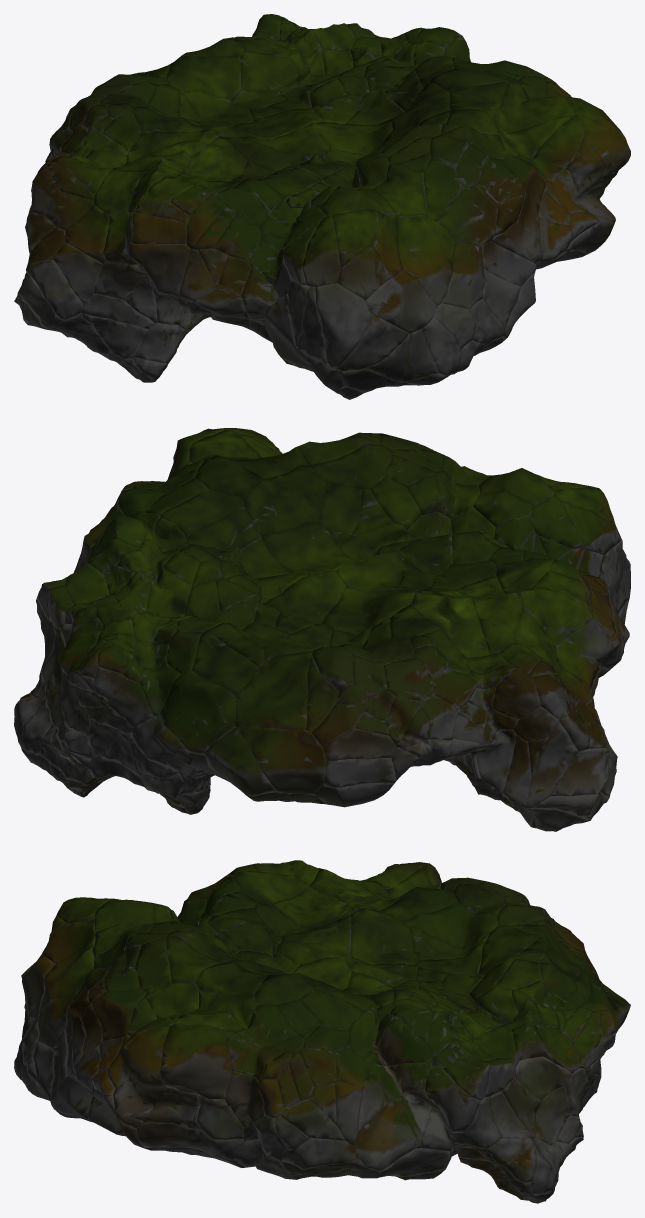
The model's file is flat_island1.fbx.
The picture shows the model from 3 angles, top to bottom: view 1: azimuth 30°, elevation 25°; view 2: azimuth 150°, elevation 25°; view 3: azimuth 270°, elevation 25°; orthographic projection. The views are drawn at different scales.
Visible parts, largest first — view 1: rock_cell.058, rock_cell.282, rock_cell.347, rock_cell.408, rock_cell.324, rock_cell.105, rock_cell.313, rock_cell.054, rock_cell.384, rock_cell.144, rock_cell.166, rock_cell.310 (+117 smaller); view 2: rock_cell.311, rock_cell.035, rock_cell.179, rock_cell.252, rock_cell.304, rock_cell.044, rock_cell.408, rock_cell.345, rock_cell.148, rock_cell.087, rock_cell.056, rock_cell.006 (+112 smaller); view 3: rock_cell.216, rock_cell.345, rock_cell.280, rock_cell.401, rock_cell.018, rock_cell.408, rock_cell.319, rock_cell.313, rock_cell.380, rock_cell.360, rock_cell.210, rock_cell.329 (+110 smaller).
Part boxes in pixels (<box>): rock_cell.058: <box>398,215,456,306</box>; rock_cell.282: <box>315,283,371,369</box>; rock_cell.347: <box>366,269,436,333</box>; rock_cell.408: <box>226,125,329,171</box>; rock_cell.324: <box>166,55,240,99</box>; rock_cell.105: <box>437,185,498,245</box>; rock_cell.313: <box>496,81,577,132</box>; rock_cell.054: <box>128,244,191,297</box>; rock_cell.384: <box>441,241,485,308</box>; rock_cell.144: <box>240,49,300,91</box>; rock_cell.166: <box>515,115,583,181</box>; rock_cell.310: <box>568,135,615,223</box>; rock_cell.311: <box>235,650,313,729</box>; rock_cell.035: <box>159,670,236,754</box>; rock_cell.179: <box>237,727,326,794</box>; rock_cell.252: <box>243,465,325,535</box>; rock_cell.304: <box>261,522,357,574</box>; rock_cell.044: <box>411,592,489,658</box>; rock_cell.408: <box>336,551,436,592</box>; rock_cell.345: <box>321,586,419,634</box>; rock_cell.148: <box>266,570,346,623</box>; rock_cell.087: <box>205,726,276,796</box>; rock_cell.056: <box>517,587,594,645</box>; rock_cell.006: <box>308,444,392,489</box>; rock_cell.216: <box>160,1024,232,1098</box>; rock_cell.345: <box>350,908,419,965</box>; rock_cell.280: <box>353,1100,416,1171</box>; rock_cell.401: <box>402,902,498,948</box>; rock_cell.018: <box>120,1026,169,1105</box>; rock_cell.408: <box>276,915,351,964</box>; rock_cell.319: <box>137,1122,243,1160</box>; rock_cell.313: <box>174,989,258,1031</box>; rock_cell.380: <box>425,1064,480,1132</box>; rock_cell.360: <box>237,1005,304,1052</box>; rock_cell.210: <box>271,887,354,927</box>; rock_cell.329: <box>363,1016,432,1066</box>.
Bounding box in the file's own units: 3810 × 1638 × 3830.
Materials: 1 (1 with a texture image).
